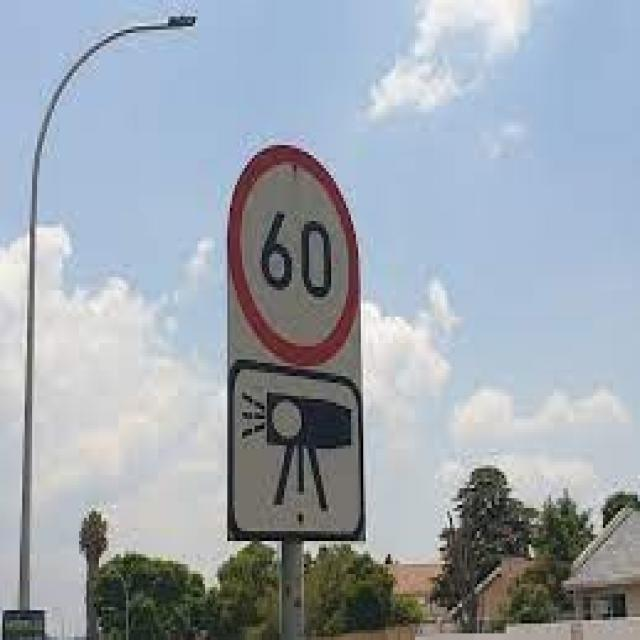speed_limit_60: (220, 142, 374, 367)
